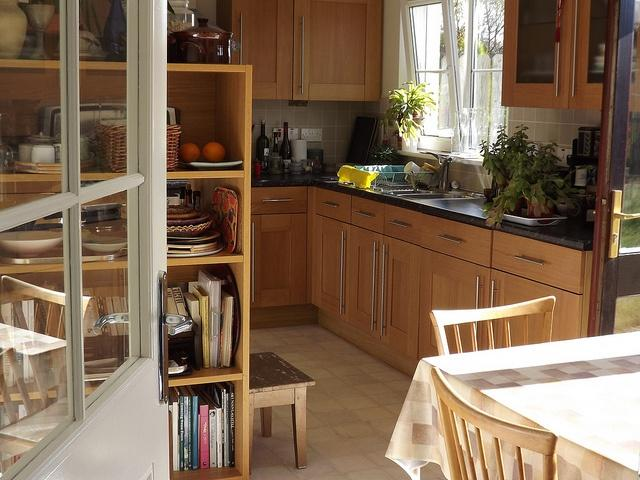Lemari: (229, 0, 382, 102), (498, 0, 612, 109)
Rak: (164, 62, 251, 479)
